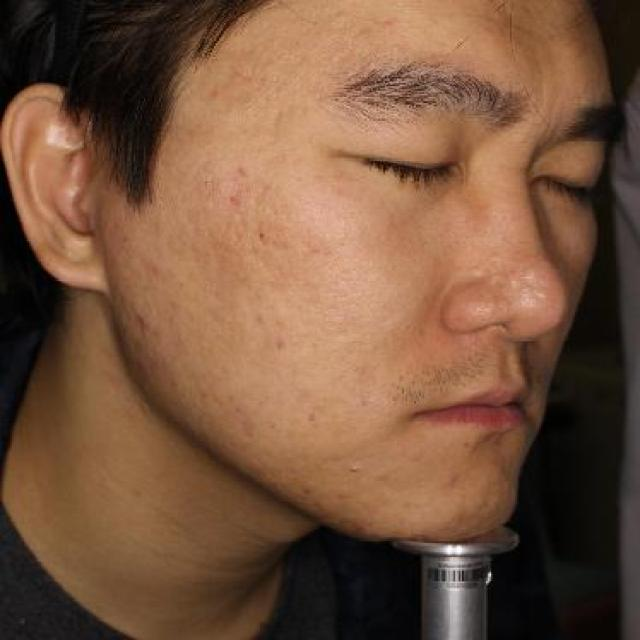Acne: (300, 237, 334, 263), (266, 332, 292, 356), (351, 389, 381, 408), (441, 469, 466, 491), (342, 460, 369, 480), (228, 398, 254, 418), (225, 189, 250, 209), (228, 162, 252, 182), (300, 409, 322, 426)
Whiteheads: (376, 14, 400, 31)
